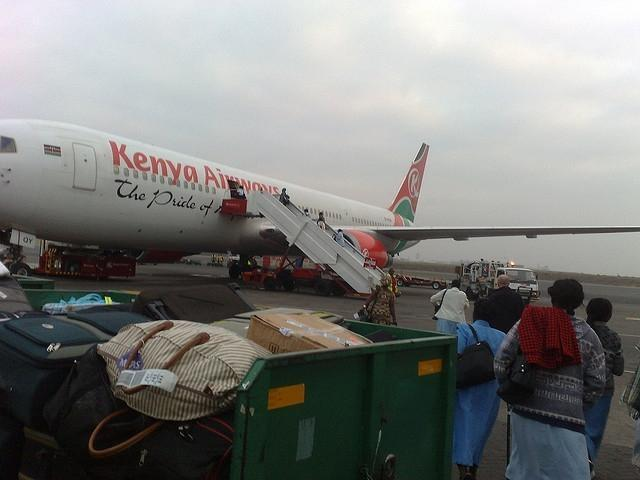truck: (459, 258, 541, 307)
